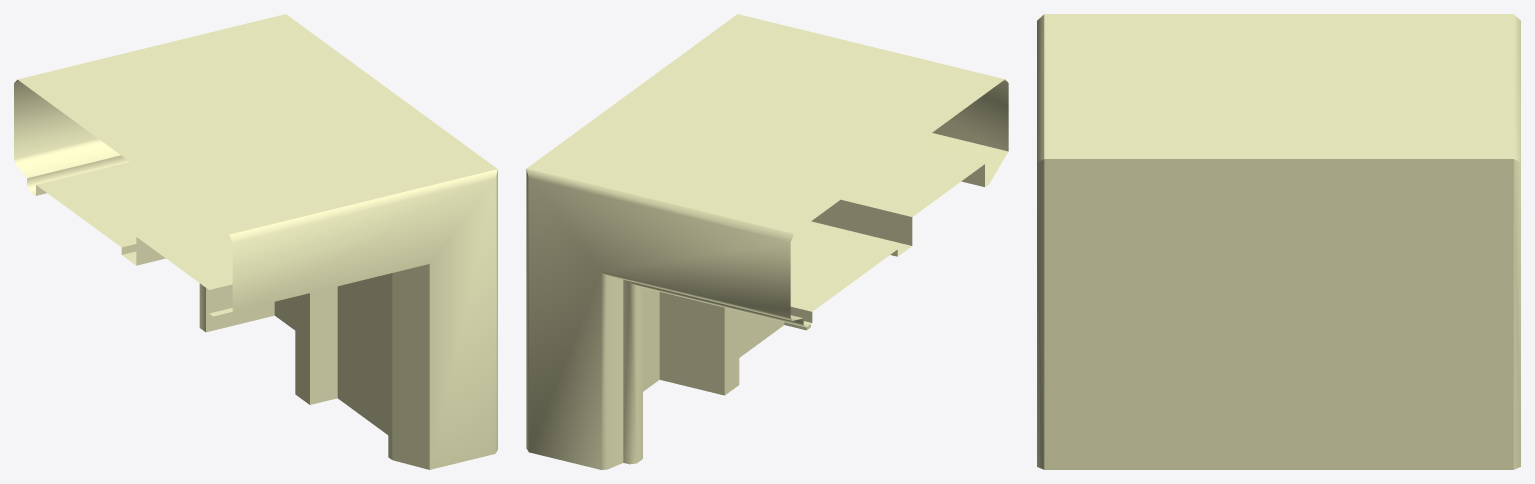
Rendered from original-3.obj.
3 views of the same model, side by side, from view 1: azimuth 30°, elevation 25°; view 2: azimuth 150°, elevation 25°; view 3: azimuth 270°, elevation 25° (orthographic). The views are drawn at different scales.
Visible parts, largest first — view 1: FRAME_TR1/FRAME_TR/mesh9/mesh9-geometry#mesh9-geometry; view 2: FRAME_TR1/FRAME_TR/mesh9/mesh9-geometry#mesh9-geometry; view 3: FRAME_TR1/FRAME_TR/mesh9/mesh9-geometry#mesh9-geometry.
Boxes of the visible parts, x1,y1,x2,y2 form: FRAME_TR1/FRAME_TR/mesh9/mesh9-geometry#mesh9-geometry: [14, 14, 497, 469]; FRAME_TR1/FRAME_TR/mesh9/mesh9-geometry#mesh9-geometry: [526, 14, 1008, 469]; FRAME_TR1/FRAME_TR/mesh9/mesh9-geometry#mesh9-geometry: [1037, 14, 1520, 469].
Bounding box in the file's own units: 0.0978 × 0.0978 × 0.1378.
